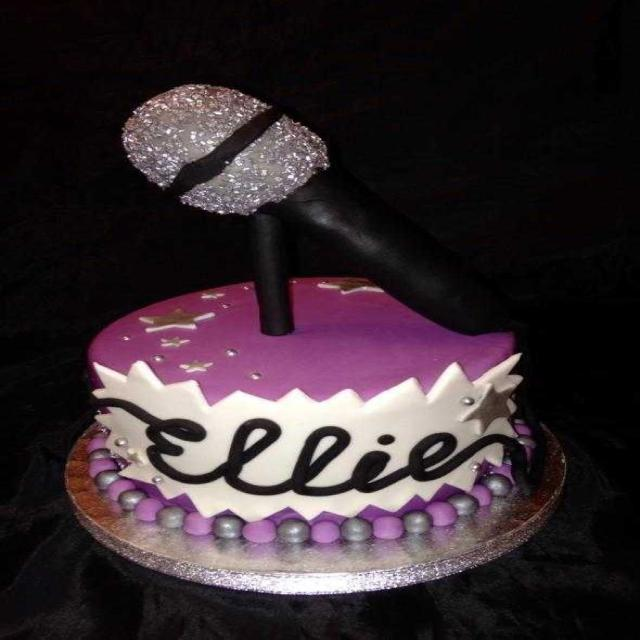microphone: (125, 78, 523, 323)
